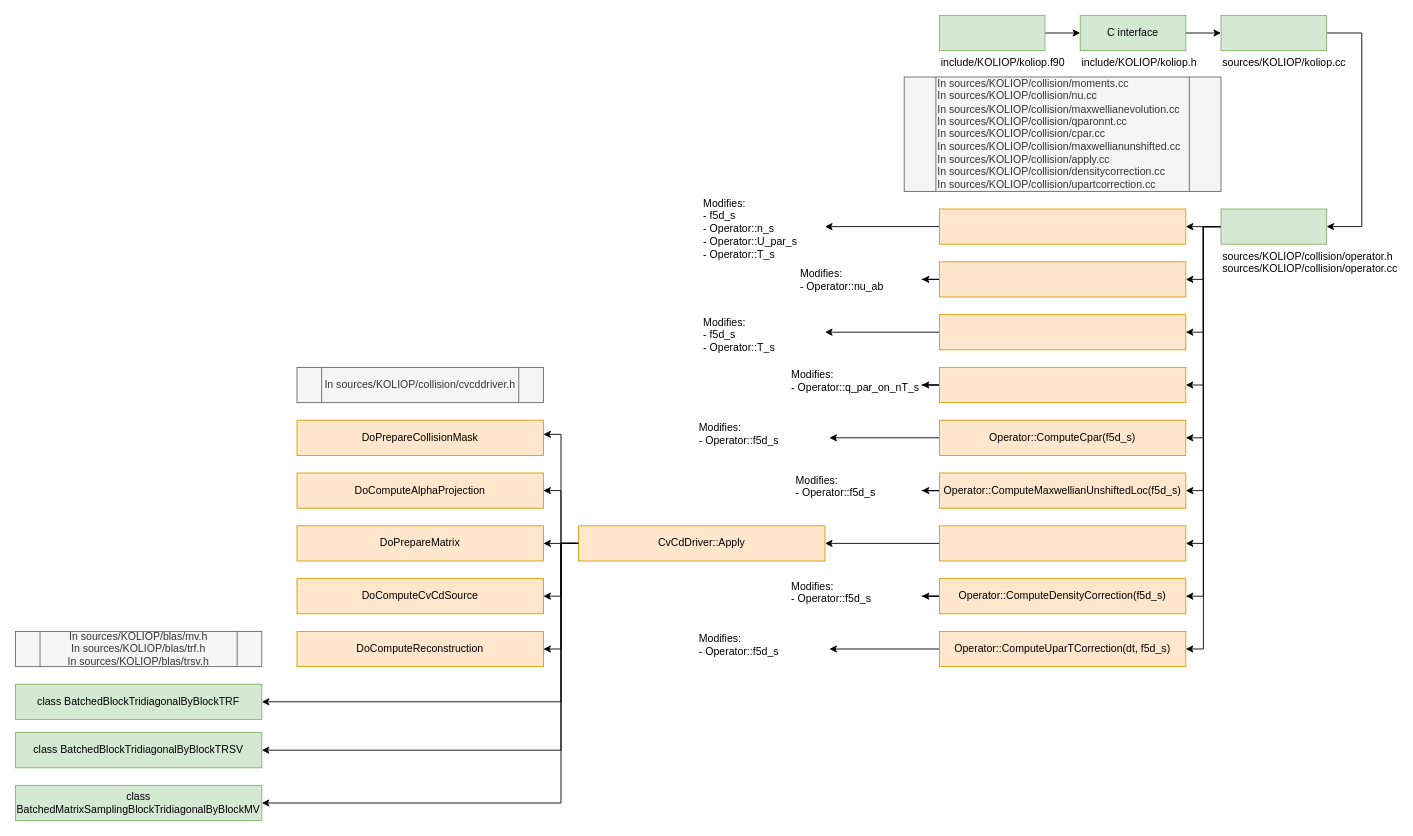
The diagram is 1413 pixels wide and 836 high, and some of its shapes have lost their labels. Each missing label, with the centre of its shape:
"C implementation" belongs at [1273,33].
"class Operator" belongs at [1273,226].
"Fortran interface" belongs at [992,33].
"Operator::Apply(dt, f5d_s)" belongs at [1062,543].
"Operator::ComputeMaxwellianEvolution(dt, f5d_s)" belongs at [1062,332].
"Operator::ComputeMoments(f5d_s)" belongs at [1062,226].
"Operator::ComputeQparOnNT(f5d_s)" belongs at [1062,385].
"Operator::PrecomputeNu()" belongs at [1062,279].
